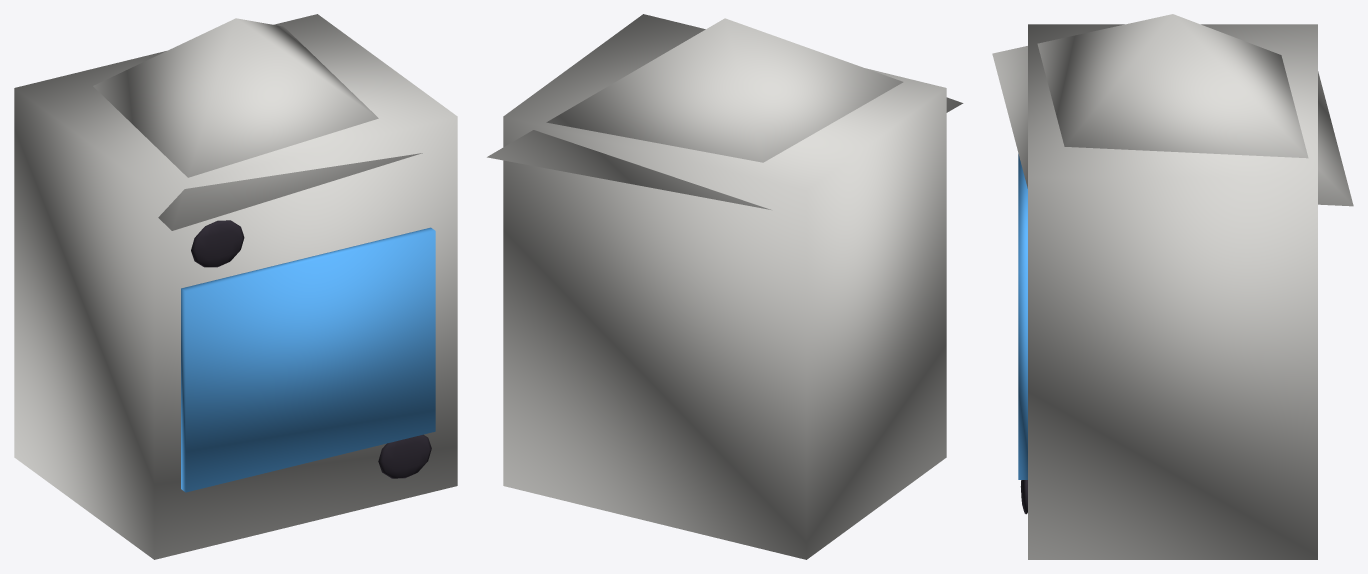
File: tb_mat_melke.glb
The picture shows the model from 3 angles, left to right: view 1: azimuth 30°, elevation 25°; view 2: azimuth 150°, elevation 25°; view 3: azimuth 270°, elevation 25°; orthographic projection. The views are drawn at different scales.
Parts seen in each view (by area): view 1: matkropp; view 2: matkropp; view 3: matkropp.
Part boxes in pixels (x1,y1,x2,y2): matkropp: [14, 14, 457, 559]; matkropp: [487, 14, 963, 559]; matkropp: [992, 14, 1353, 559].
Size of the model in its own units: 0.68 by 0.9712 by 0.678.
